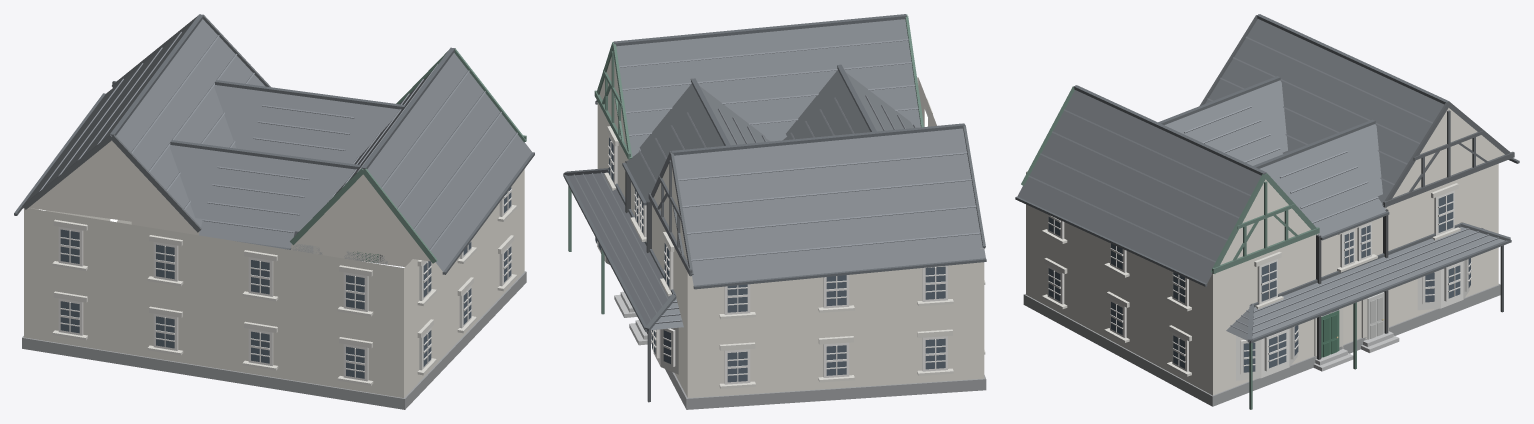
3 views of the same model, side by side, from view 1: azimuth 30°, elevation 25°; view 2: azimuth 150°, elevation 25°; view 3: azimuth 270°, elevation 25° (orthographic). The views are drawn at different scales.
Visible parts, largest first — view 1: harl_cream, slate, plinth, frame, slate_dk, slate_lt, string, band_dark, timber_green, window_glass_013, window_glass_015, window_glass_012 (+5 smaller); view 2: slate, harl_cream, slate_dk, slate_lt, frame, plinth, timber_green, band_dark, string, stone_band, window_glass_025, window_glass_020 (+5 smaller); view 3: slate, harl_cream, slate_dk, frame, slate_lt, plinth, band_dark, timber_green, string, pipe, stone_band, door_green_p (+3 smaller).
Part boxes in pixels (bbox=[...]): harl_cream: bbox=[24, 140, 524, 397]; slate: bbox=[17, 19, 532, 271]; plinth: bbox=[22, 271, 526, 409]; frame: bbox=[37, 187, 512, 381]; slate_dk: bbox=[14, 14, 534, 274]; slate_lt: bbox=[38, 31, 517, 250]; string: bbox=[52, 205, 516, 385]; band_dark: bbox=[22, 14, 270, 232]; timber_green: bbox=[290, 48, 526, 263]; window_glass_013: bbox=[60, 229, 79, 263]; window_glass_015: bbox=[156, 244, 174, 279]; window_glass_012: bbox=[60, 301, 79, 333]; slate: bbox=[568, 19, 985, 330]; harl_cream: bbox=[597, 57, 984, 397]; slate_dk: bbox=[563, 14, 986, 331]; slate_lt: bbox=[574, 39, 980, 323]; frame: bbox=[595, 106, 947, 384]; plinth: bbox=[651, 332, 986, 409]; timber_green: bbox=[568, 14, 923, 314]; band_dark: bbox=[647, 123, 985, 402]; string: bbox=[604, 98, 985, 388]; stone_band: bbox=[614, 291, 651, 345]; window_glass_025: bbox=[925, 266, 945, 299]; window_glass_020: bbox=[727, 351, 747, 382]; slate: bbox=[1017, 19, 1516, 340]; harl_cream: bbox=[1026, 108, 1504, 395]; slate_dk: bbox=[1015, 14, 1519, 343]; frame: bbox=[1047, 190, 1471, 380]; slate_lt: bbox=[1028, 36, 1498, 333]; plinth: bbox=[1023, 284, 1500, 406]; band_dark: bbox=[1199, 14, 1514, 312]; timber_green: bbox=[1021, 86, 1356, 409]; string: bbox=[1042, 183, 1460, 376]; pipe: bbox=[1316, 209, 1388, 359]; stone_band: bbox=[1313, 331, 1399, 371]; door_green_p: bbox=[1323, 314, 1337, 357].
Bounding box in the file's own units: 19.92 × 9.28 × 19.94.
